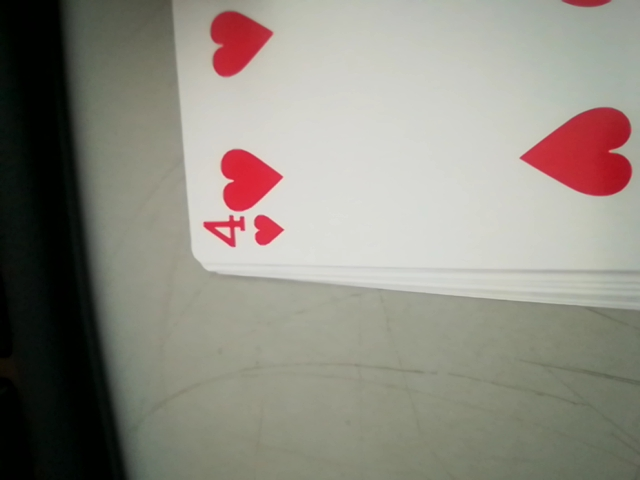hx 4: (198, 206, 286, 262)
